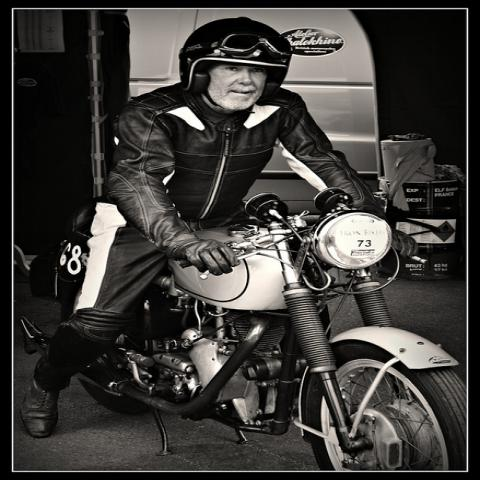motorcycle: (78, 191, 479, 474)
